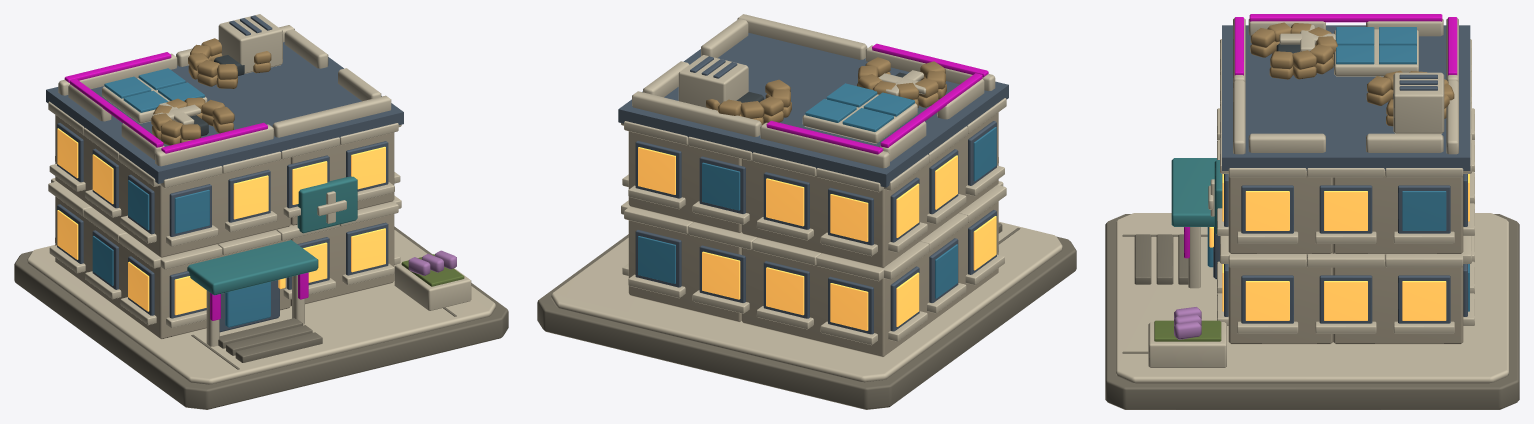
File: civilian-clinic-garrison.glb
3 renders of one model, left to right at view 1: azimuth 30°, elevation 25°; view 2: azimuth 150°, elevation 25°; view 3: azimuth 270°, elevation 25°, orthographic. The views are drawn at different scales.
Parts seen in each view (by area): view 1: CivilianShell; view 2: CivilianShell; view 3: CivilianShell.
Part boxes in pixels (x1,y1,x2,y2): CivilianShell: [14, 14, 508, 409]; CivilianShell: [537, 14, 1076, 409]; CivilianShell: [1105, 14, 1519, 409].
Size of the model in its own units: 1.98 by 1.38 by 1.98.
